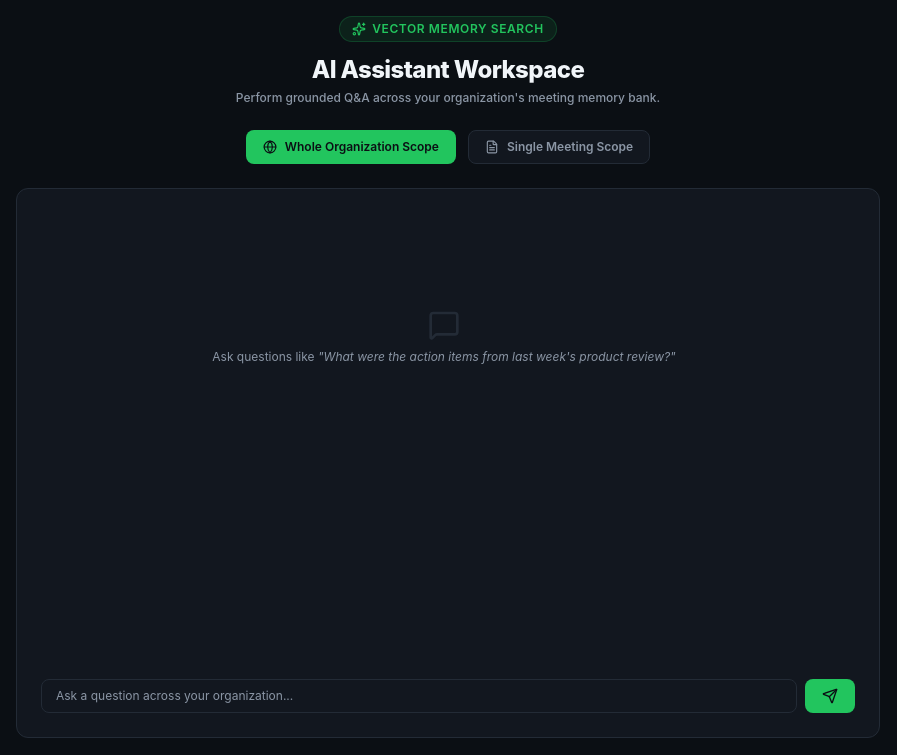
Scenario: OrgChatPage Component › sends question and displays answer
The image size is (897, 755).
Type "What is the deadline?" into the field with placeholder "Ask a question across your organization..." at (419, 696), box [41,679,797,713]
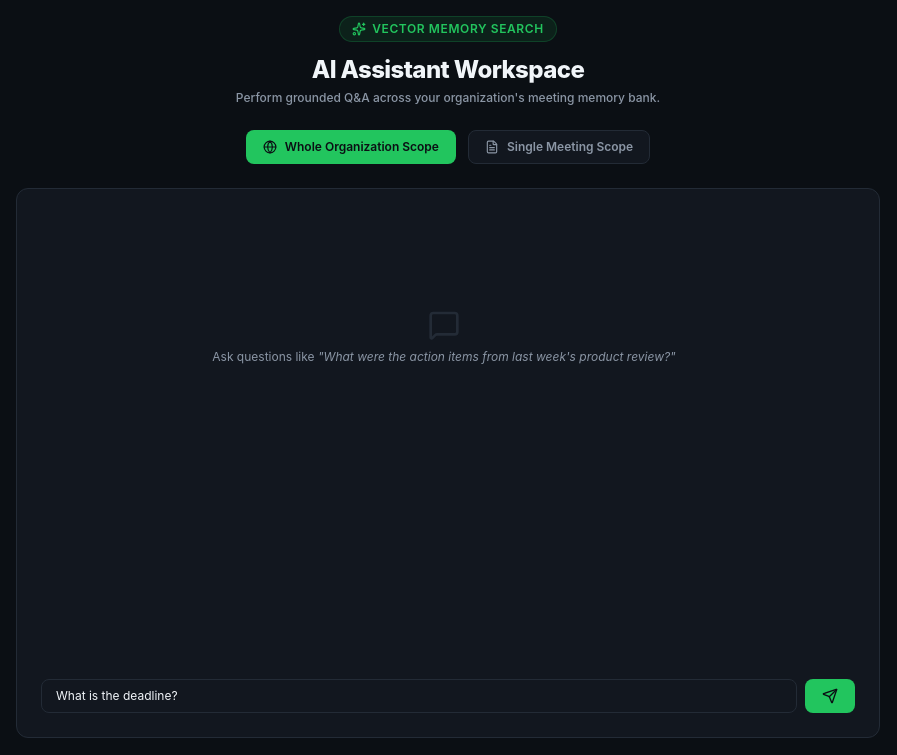
Click the 3rd button at (830, 696), box [805,679,855,713]
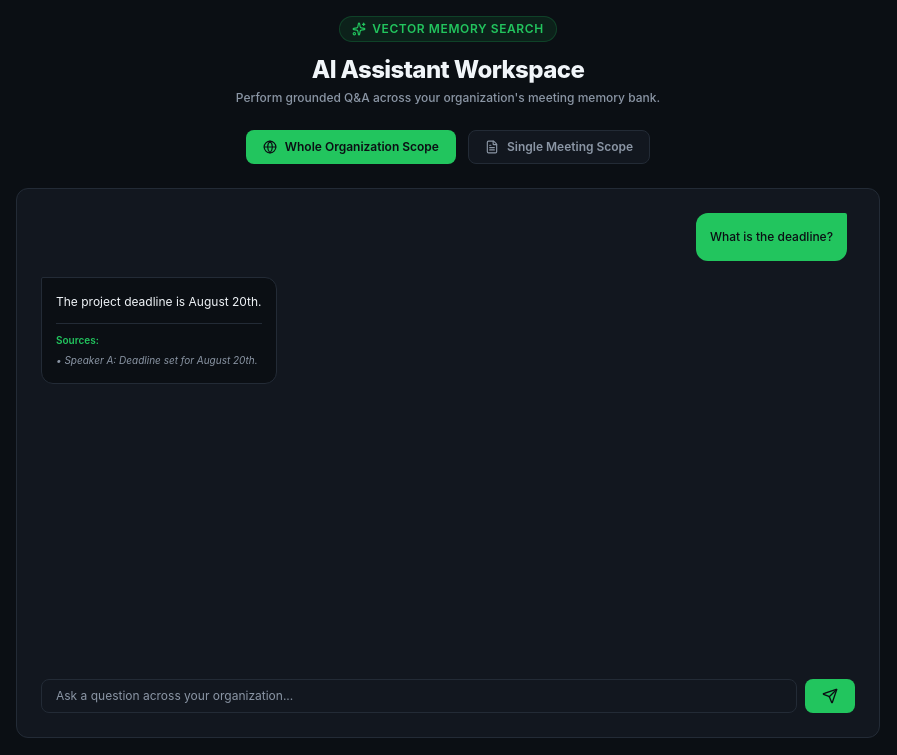
Check: the text "The project deadline is August 20th." is shown, box [56,292,262,311]
